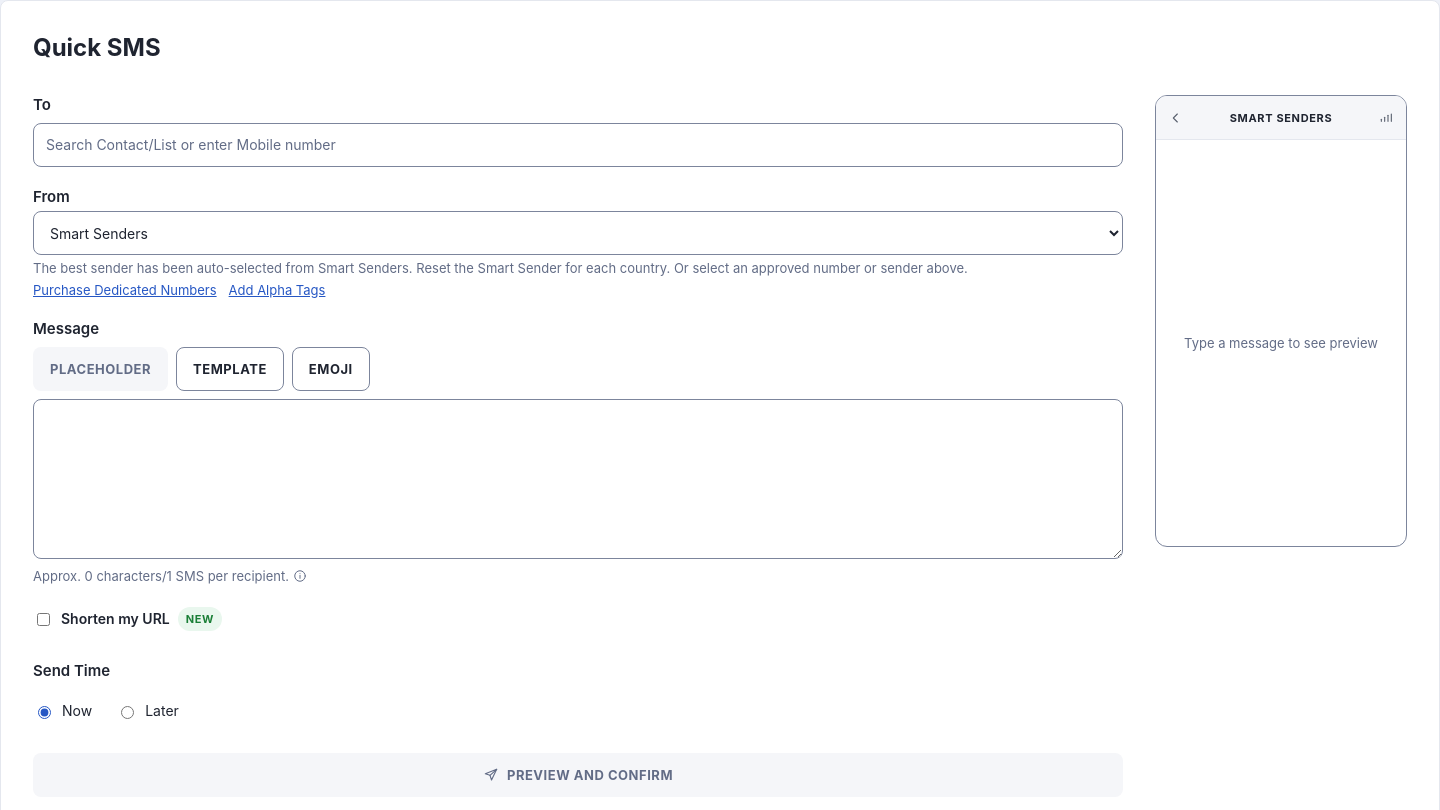
Test: QuickSendScreen › mirrors the message in the sender's preview
The image size is (1440, 810).
expect the text "Type a message to see preview" is shown: met, box [1184, 334, 1378, 352]
Type "Hello" into the text box labelled "Message" at (578, 479), box [33, 399, 1123, 559]
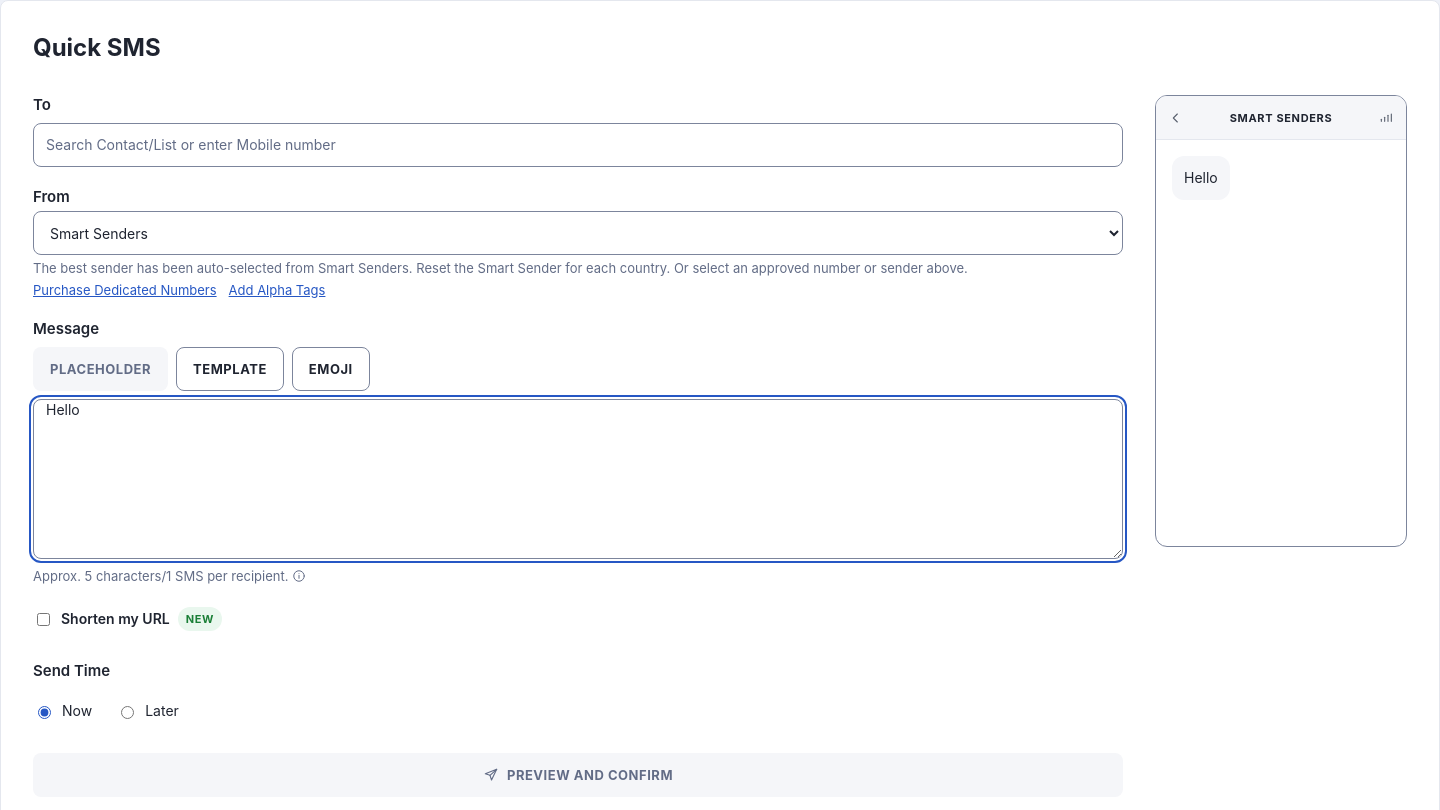
expect the text "Smart Senders" is shown: met, box [1230, 110, 1332, 124]
expect the text "Hello" is shown: met, box [1172, 156, 1230, 200]
